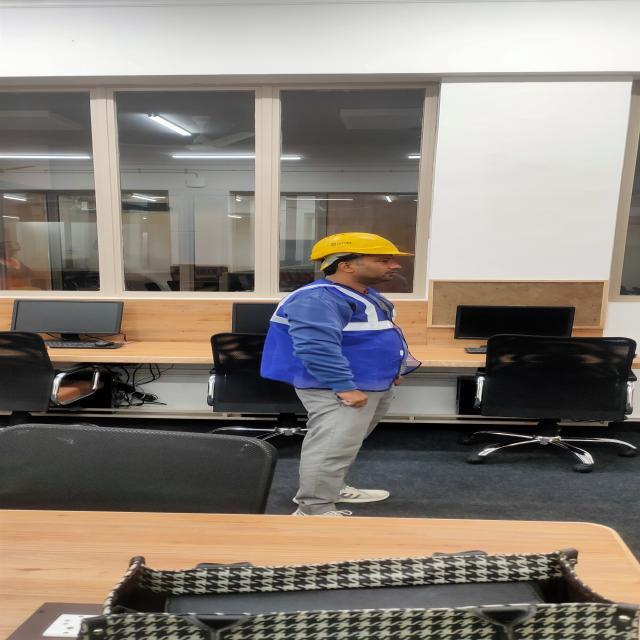safe: (257, 226, 414, 520)
